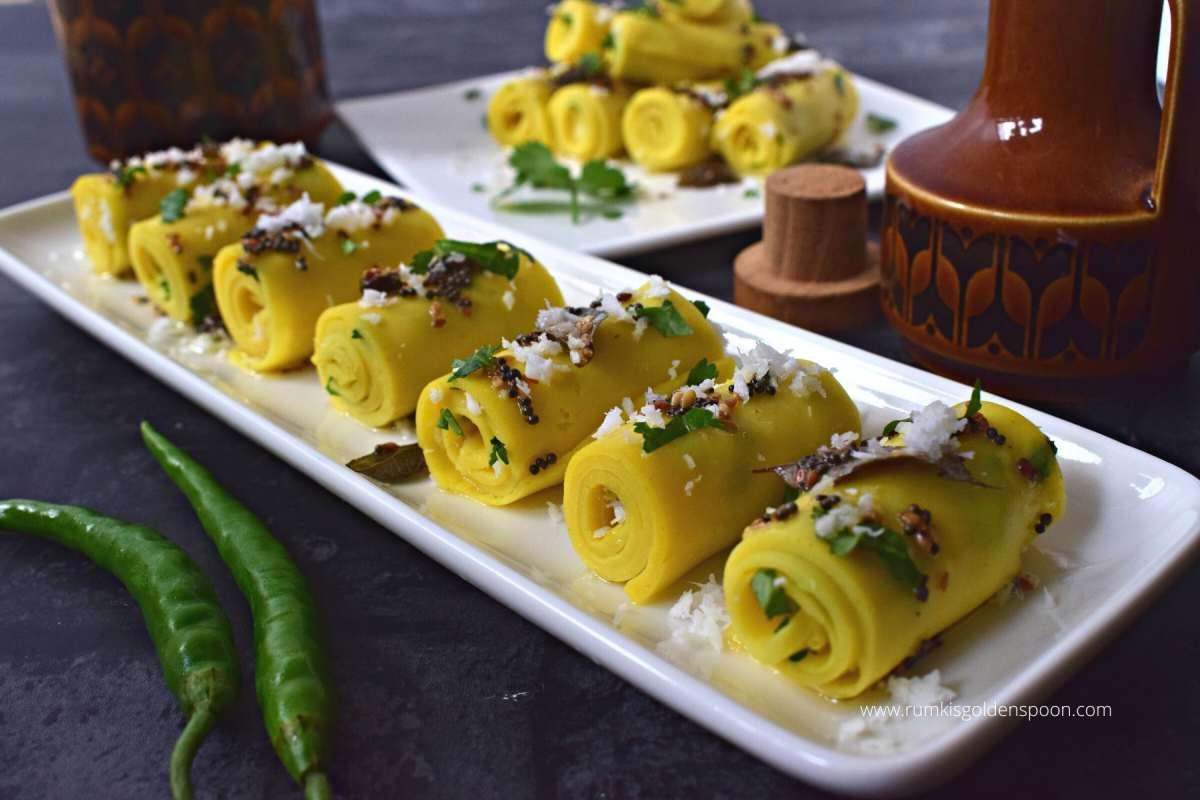khandvi: (86, 156, 784, 474)
